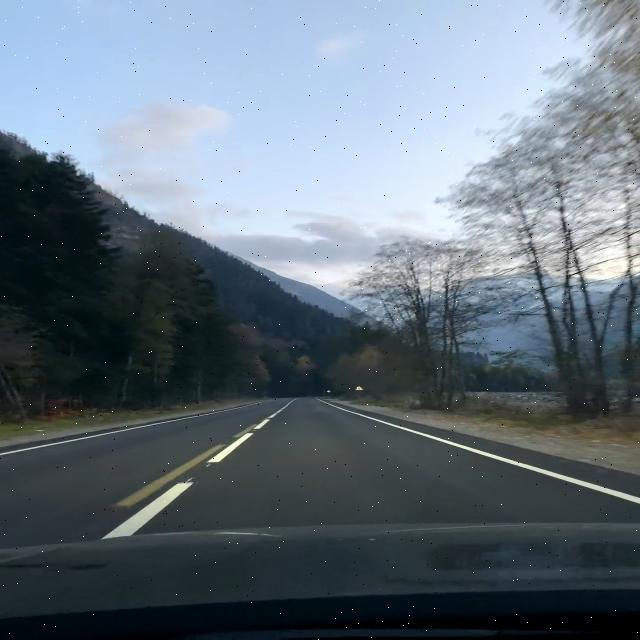lane: (320, 401, 640, 504), (102, 481, 193, 538), (207, 432, 252, 462), (253, 419, 268, 429)
